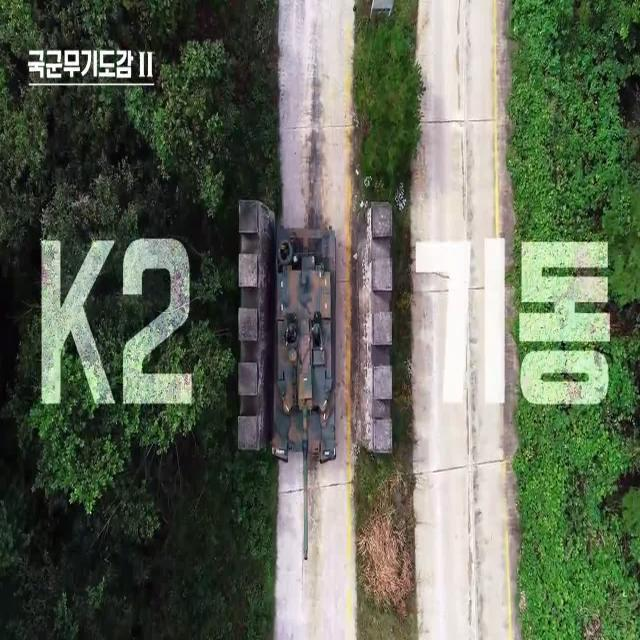korea tank: (272, 221, 340, 559)
